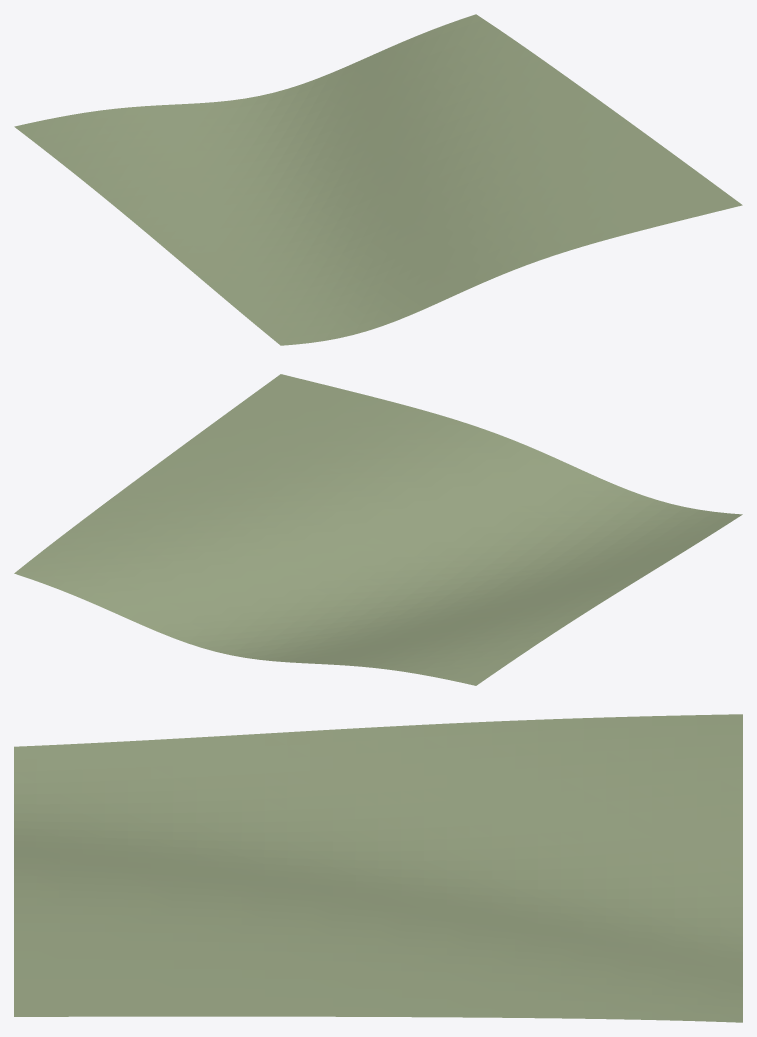
Rendered from desert-11-13.glb.
The picture shows the model from 3 angles, top to bottom: view 1: azimuth 30°, elevation 25°; view 2: azimuth 150°, elevation 25°; view 3: azimuth 270°, elevation 25°; orthographic projection. The views are drawn at different scales.
Visible parts, largest first — view 1: desert-11-13; view 2: desert-11-13; view 3: desert-11-13.
Part boxes in pixels (x1,y1,x2,y2): desert-11-13: (14,14,742,345); desert-11-13: (14,374,742,685); desert-11-13: (14,714,742,1022).
Size of the model in its own units: 512 by 36.92 by 512.
